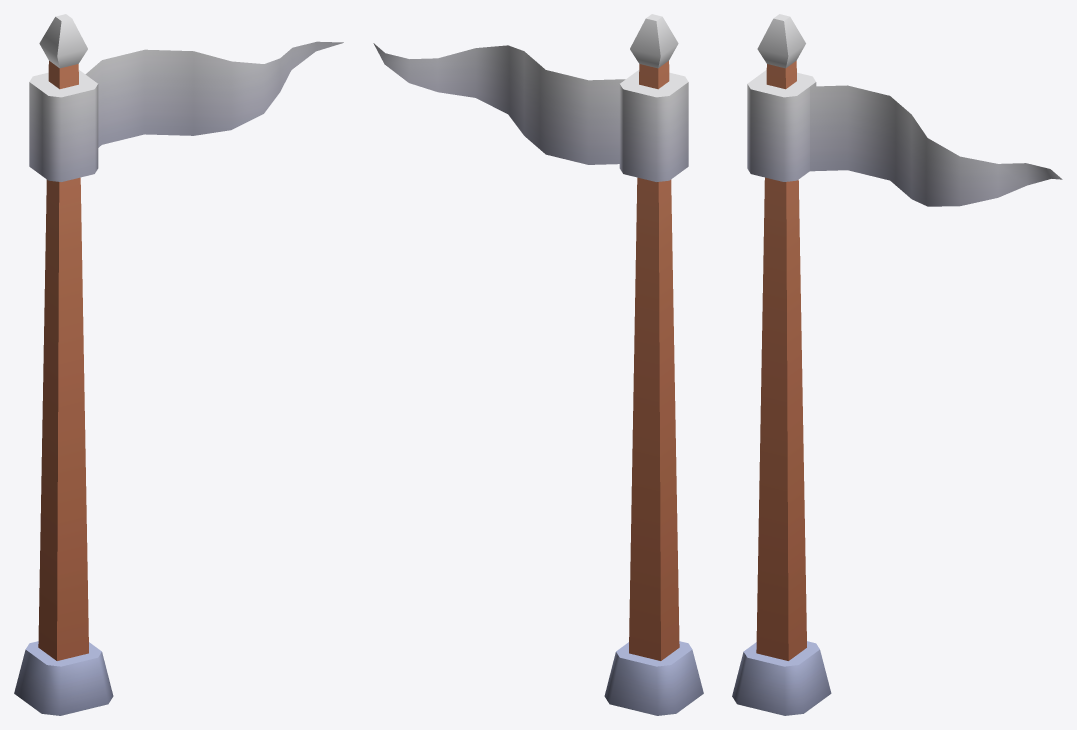
Rendered from flag-high-pennant.glb.
The picture shows the model from 3 angles, left to right: view 1: azimuth 30°, elevation 25°; view 2: azimuth 150°, elevation 25°; view 3: azimuth 330°, elevation 25°; orthographic projection.
Parts seen in each view (by area): view 1: flag-high-pennant; view 2: flag-high-pennant; view 3: flag-high-pennant.
Boxes of the visible parts, bbox=[...] form: flag-high-pennant: bbox=[14, 14, 343, 715]; flag-high-pennant: bbox=[373, 14, 703, 715]; flag-high-pennant: bbox=[732, 14, 1062, 715].
Size of the model in its own units: 1.76 by 3.6 by 0.3987.
1 material, 1 textured.
